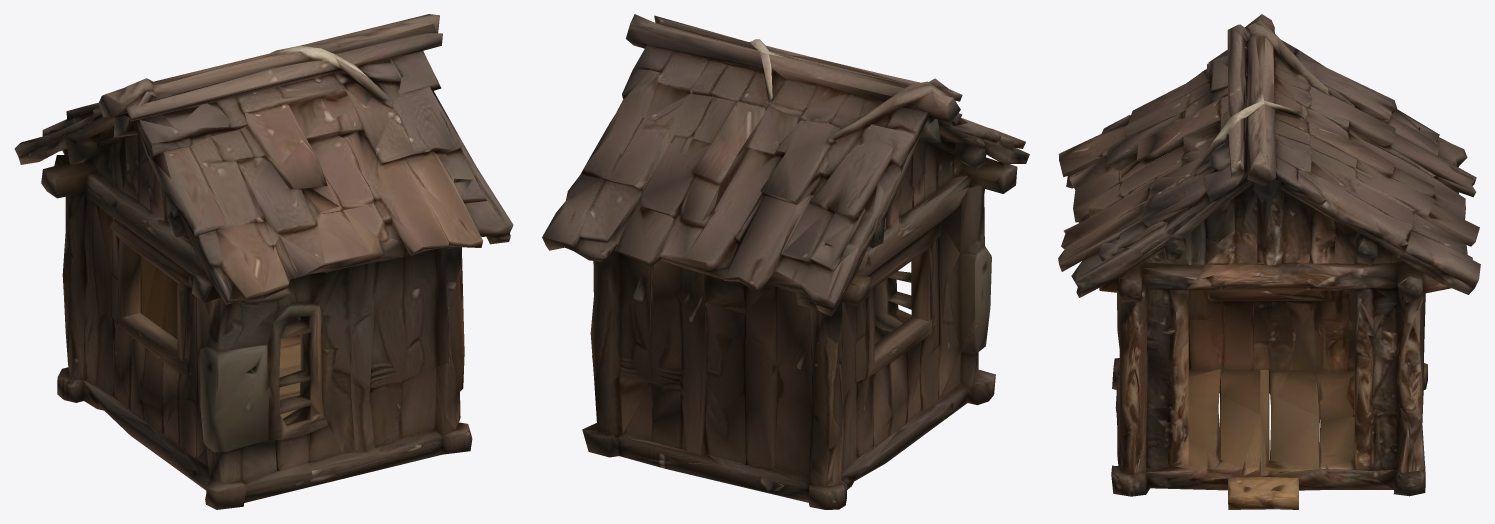
Rendered from shed.glb.
3 views of the same model, side by side, from view 1: azimuth 30°, elevation 25°; view 2: azimuth 150°, elevation 25°; view 3: azimuth 270°, elevation 25° (orthographic). The views are drawn at different scales.
Parts seen in each view (by area): view 1: tripo_node_3b3fd0bc-d89d-43ab-b08d-a43346d4c1cf; view 2: tripo_node_3b3fd0bc-d89d-43ab-b08d-a43346d4c1cf; view 3: tripo_node_3b3fd0bc-d89d-43ab-b08d-a43346d4c1cf.
Boxes of the visible parts, x1,y1,x2,y2 form: tripo_node_3b3fd0bc-d89d-43ab-b08d-a43346d4c1cf: (14, 14, 513, 509); tripo_node_3b3fd0bc-d89d-43ab-b08d-a43346d4c1cf: (542, 14, 1029, 509); tripo_node_3b3fd0bc-d89d-43ab-b08d-a43346d4c1cf: (1058, 14, 1480, 509).
Bounding box in the file's own units: 0.8518 × 0.9266 × 1.
Materials: 1 (1 with a texture image).
